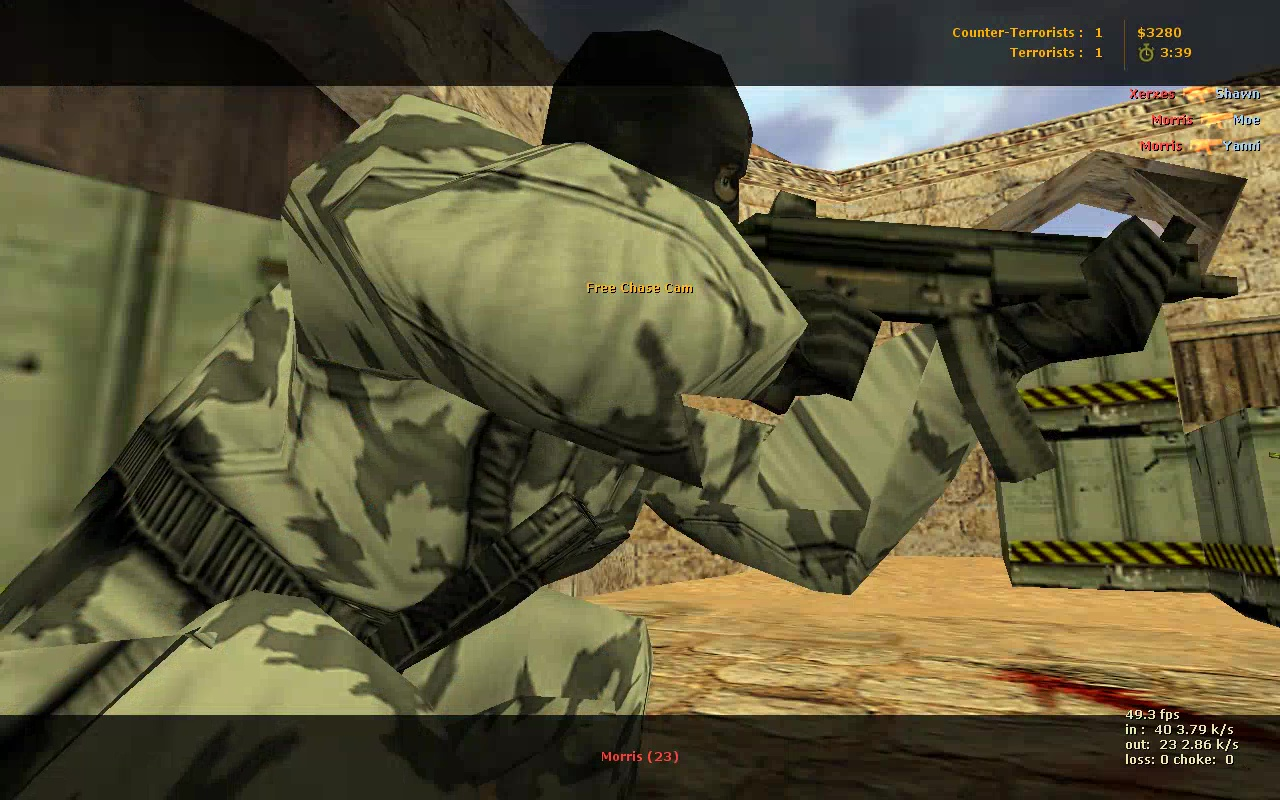terr2: (6, 29, 1200, 745)
